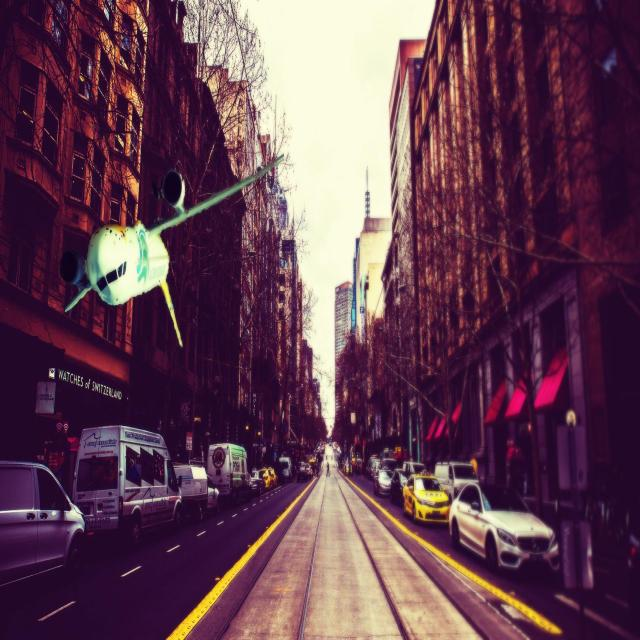airplane: (59, 151, 286, 347)
